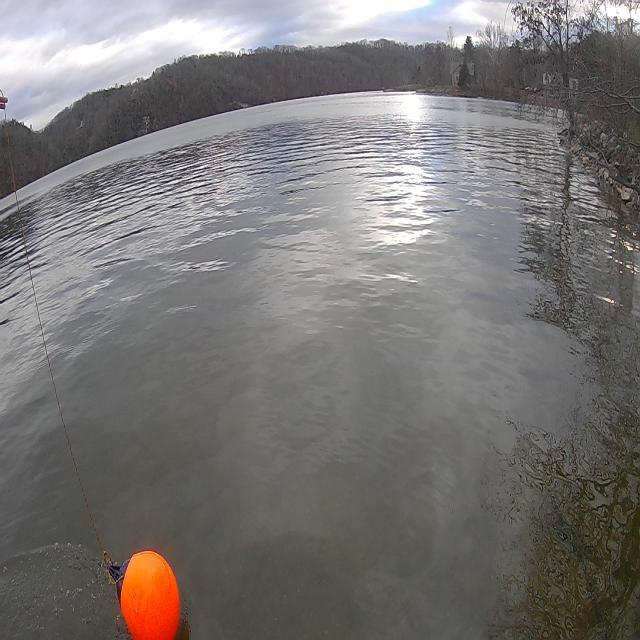Buoy: (118, 546, 183, 640)
